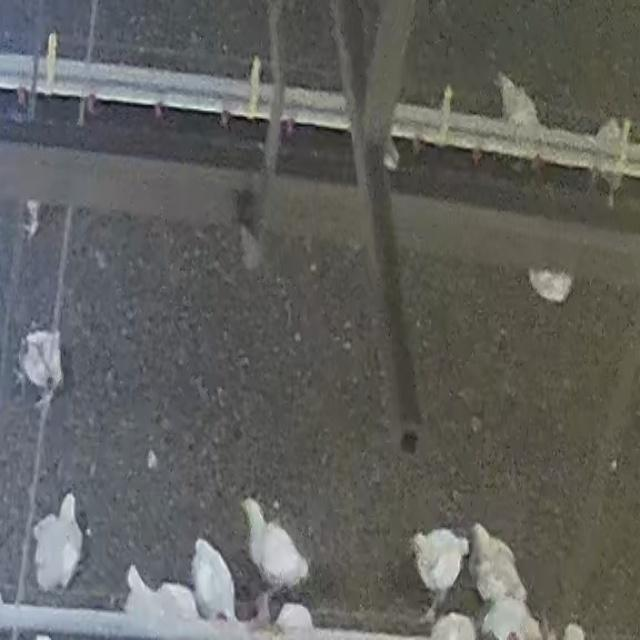chicken: (231, 496, 313, 590), (465, 524, 530, 604), (497, 75, 547, 171), (36, 494, 87, 586), (402, 520, 462, 598), (190, 533, 243, 616), (18, 329, 70, 404)
